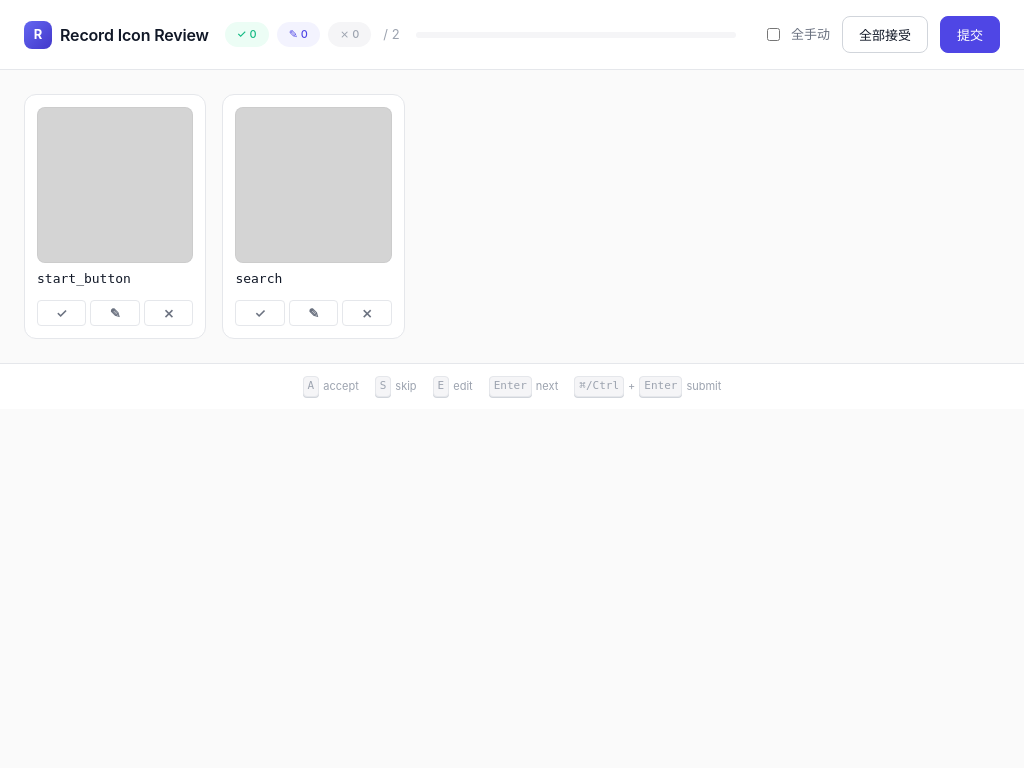
Test: App › fetches queue, renders cards, and submits on confirm
Check: the text "start_button" is shown, box [37,271,131,286]
Click the button "⨯" below "search": {"x": 367, "y": 313} [342,300,392,326]
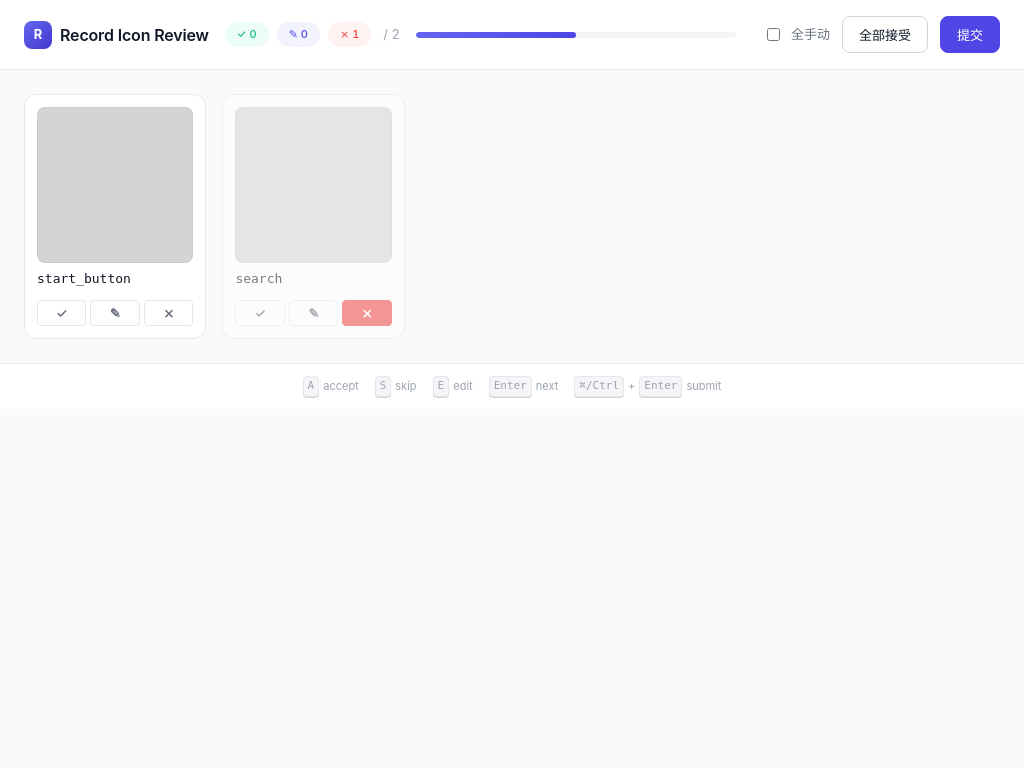
Click the button "⨯" below "start_button": {"x": 169, "y": 313} [144,300,193,326]
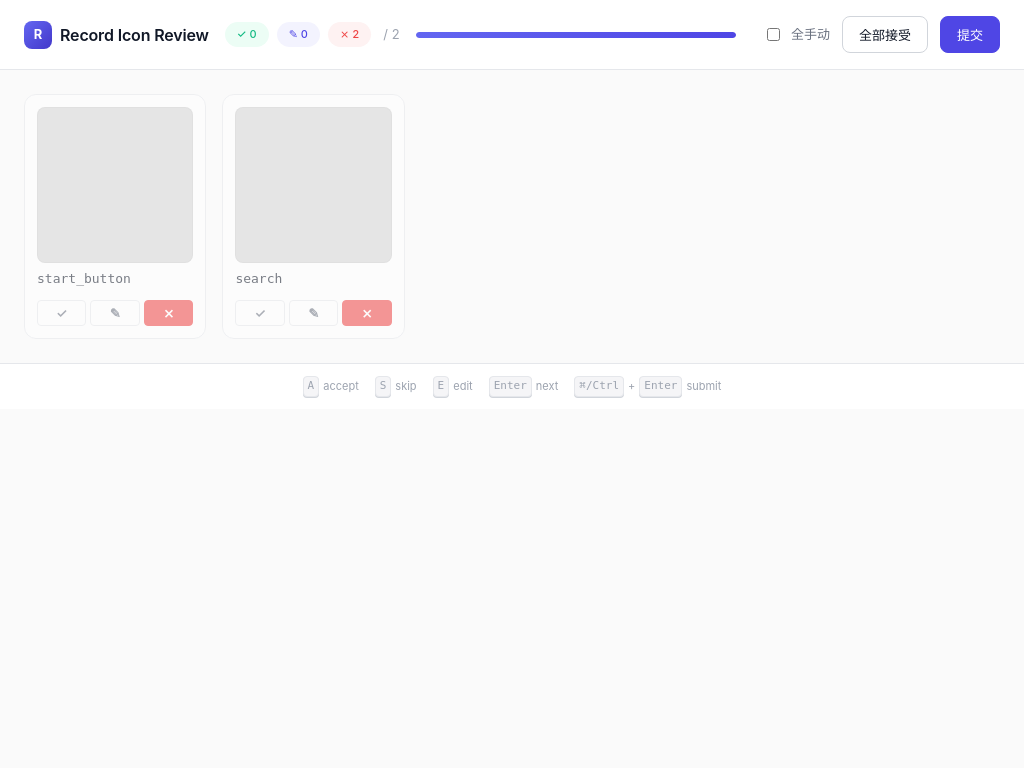
Click the button "提交": {"x": 970, "y": 34} [940,16,1000,53]
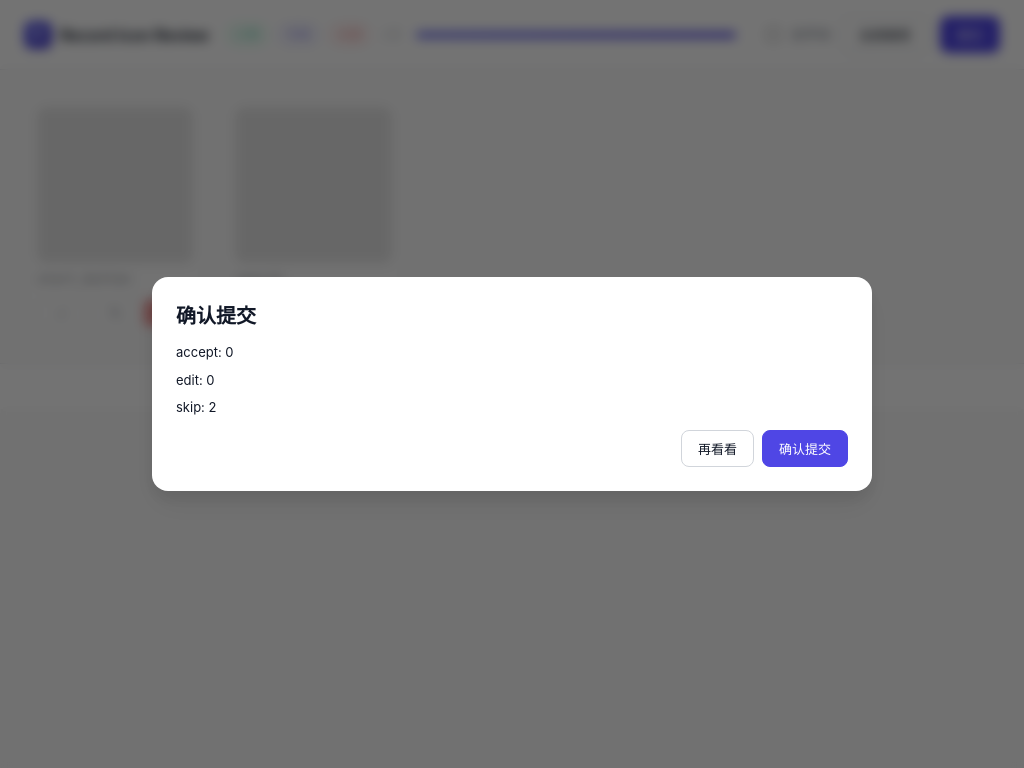
Click the button "确认提交": {"x": 805, "y": 448} [762,430,848,467]
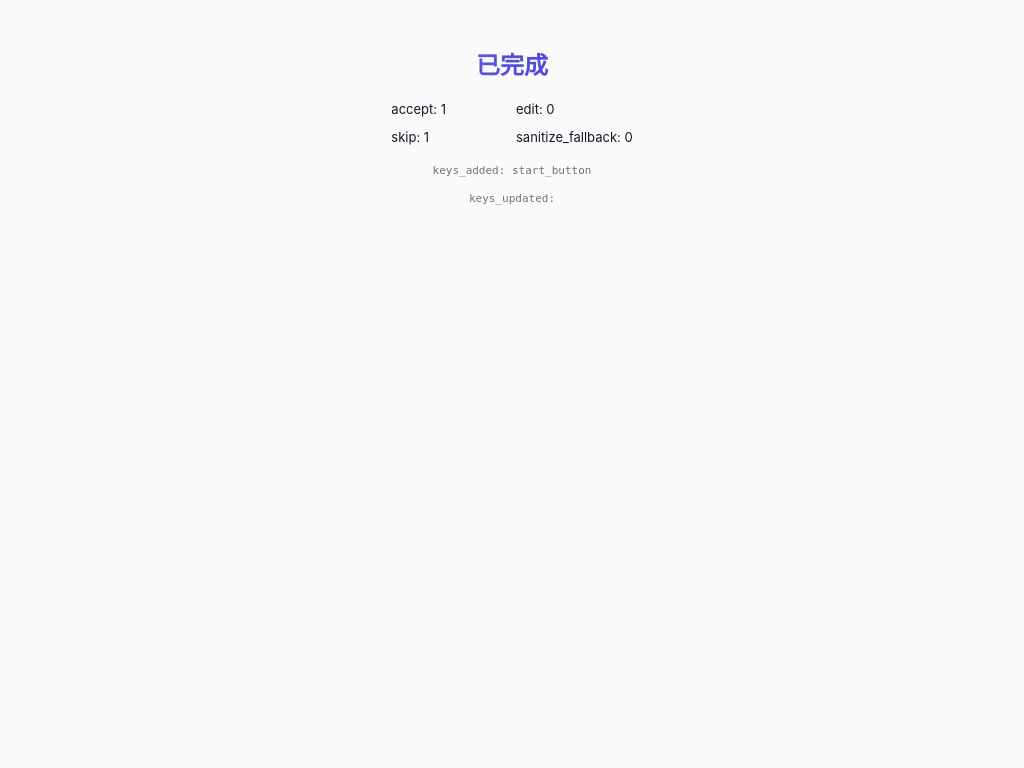
Check: the heading "已完成" is shown, box [391,48,633,84]
